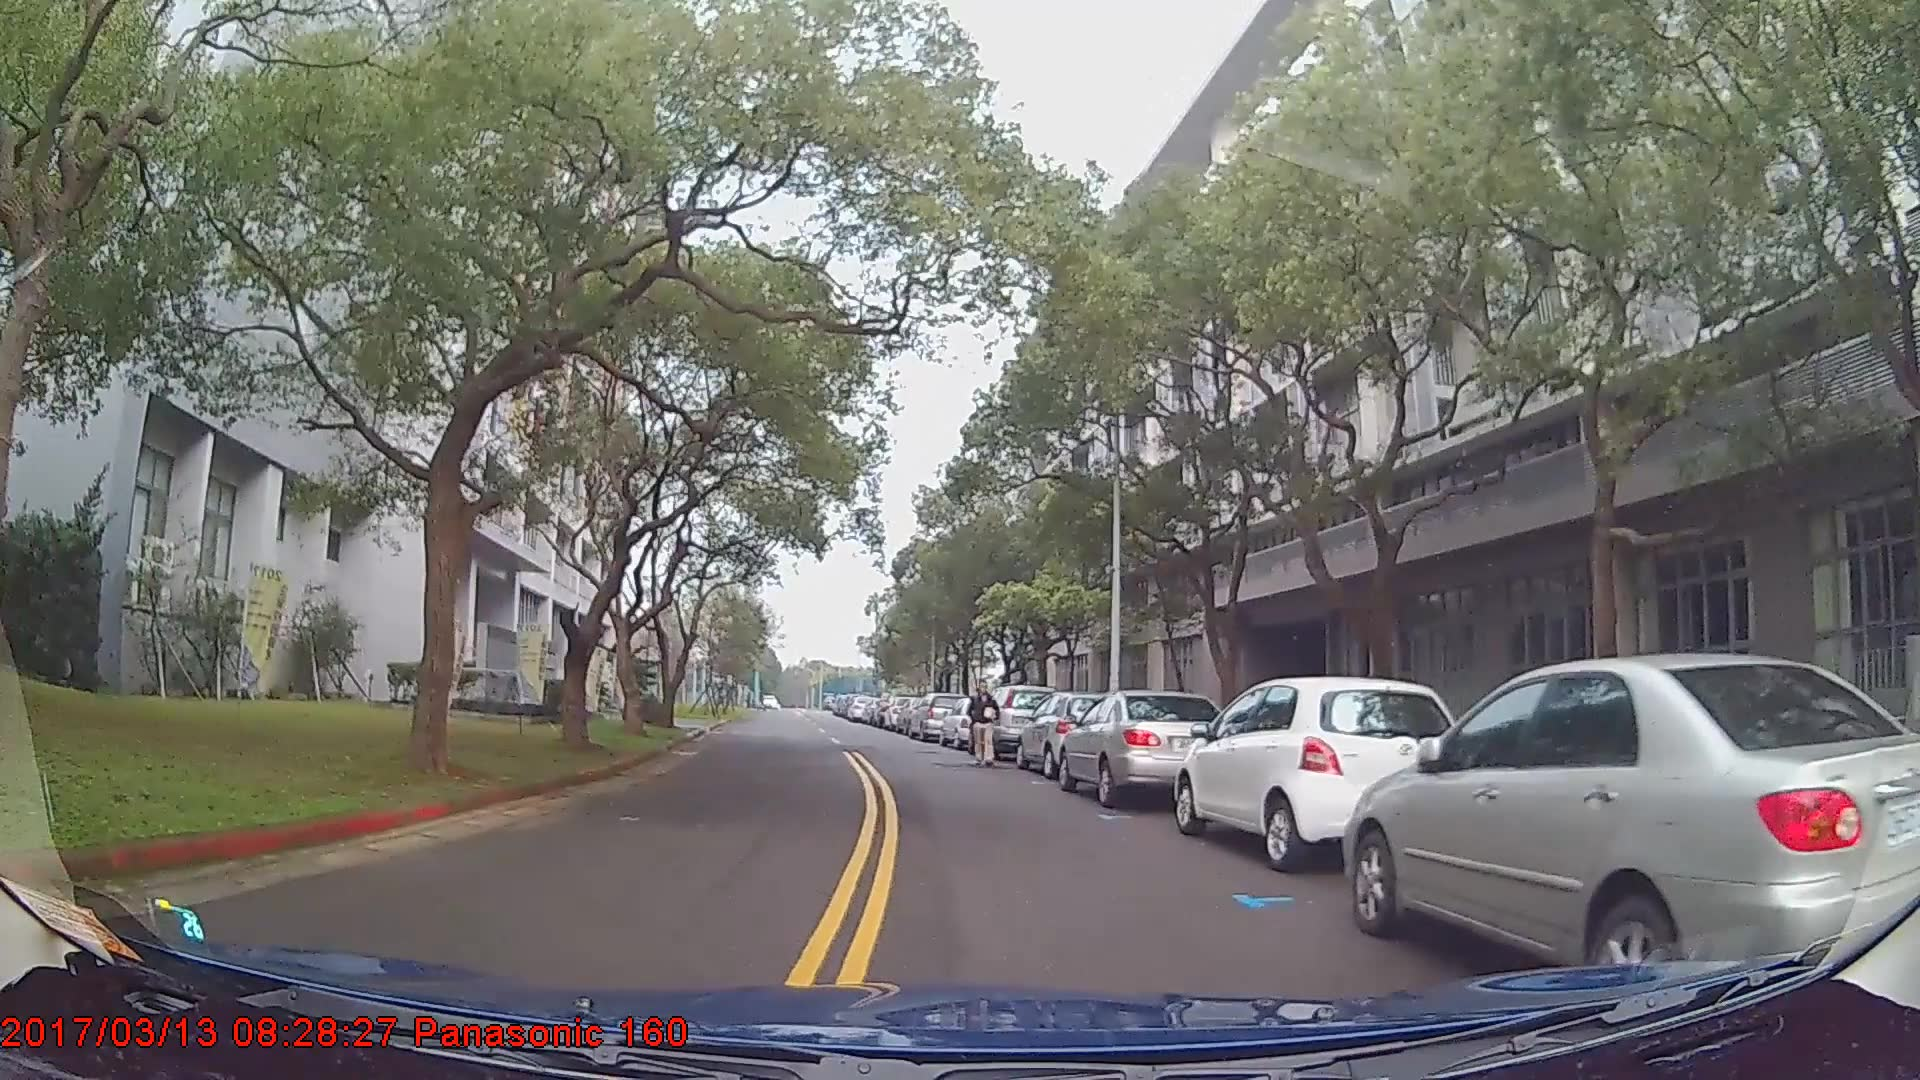pedestrian: (969, 676, 1003, 764)
vehicle: (1336, 654, 1919, 1019), (1175, 671, 1467, 872), (1057, 689, 1234, 805), (1016, 687, 1133, 777), (977, 683, 1058, 758), (906, 691, 964, 742)
